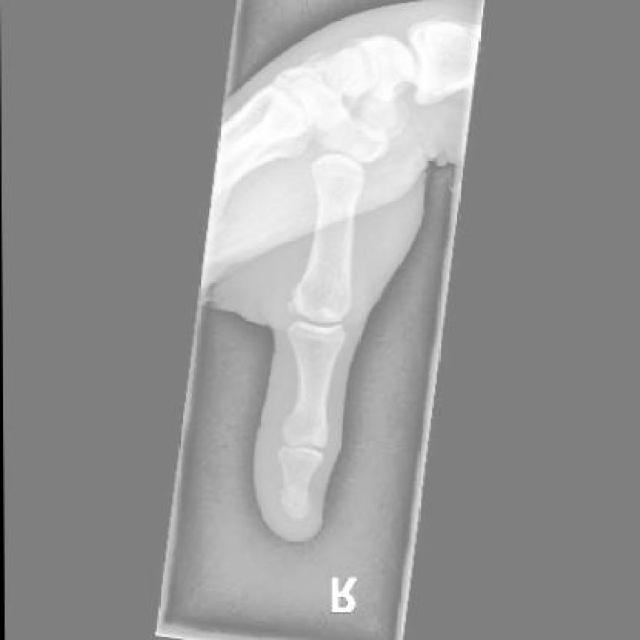Fracture: (271, 474, 305, 505)
